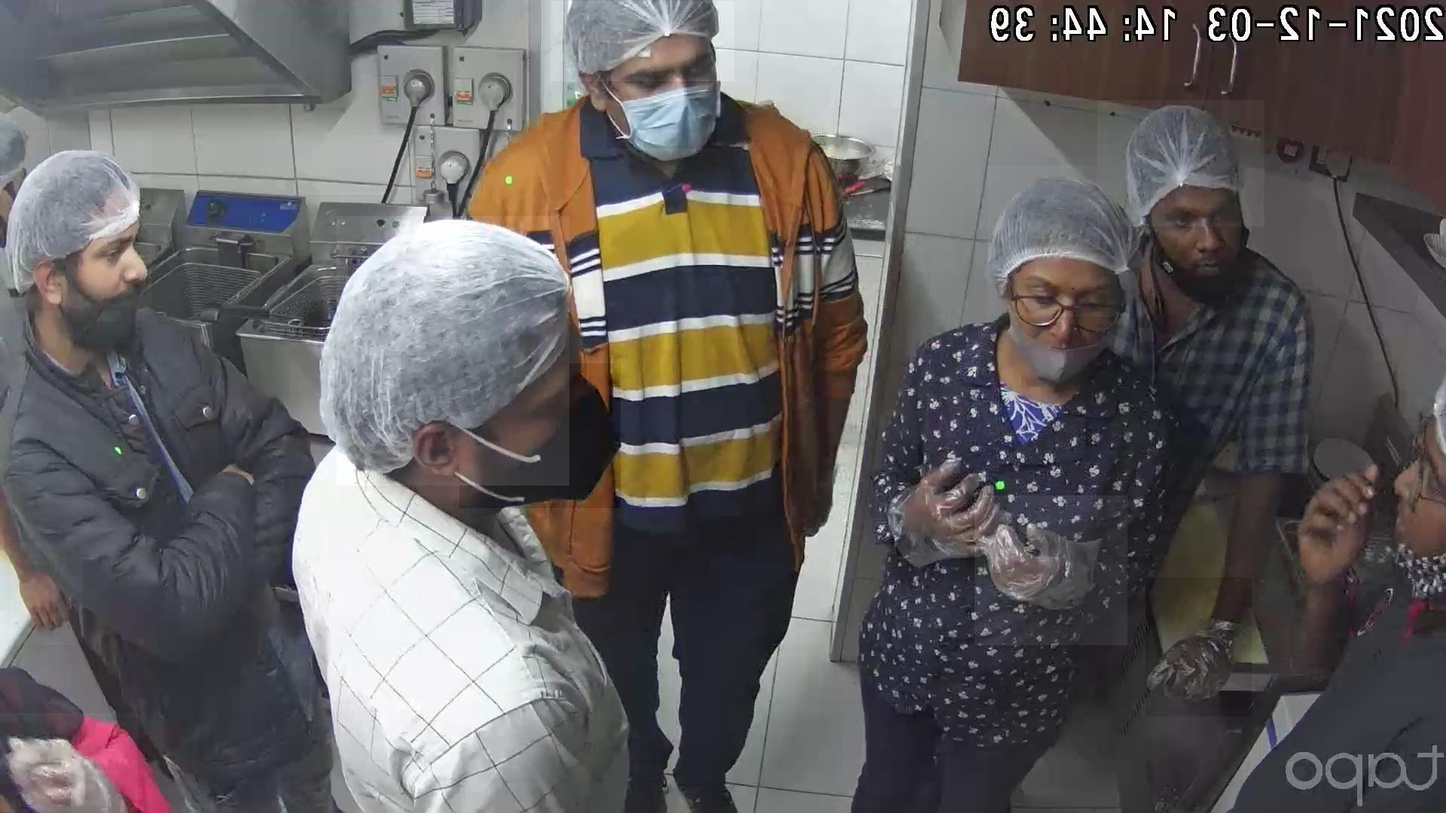apron: (975, 495, 1128, 645), (887, 443, 997, 582), (1146, 578, 1252, 717), (1, 714, 139, 813)
gloves: (337, 217, 570, 486), (1, 131, 152, 308), (987, 166, 1149, 318), (1098, 101, 1265, 227), (551, 1, 734, 81)
mask: (459, 364, 621, 508), (607, 52, 717, 148)
no_apron: (1294, 455, 1401, 602), (11, 543, 83, 646)
no_hairnet: (1012, 257, 1113, 352), (39, 227, 142, 312), (1158, 184, 1243, 284), (1387, 421, 1437, 553)
